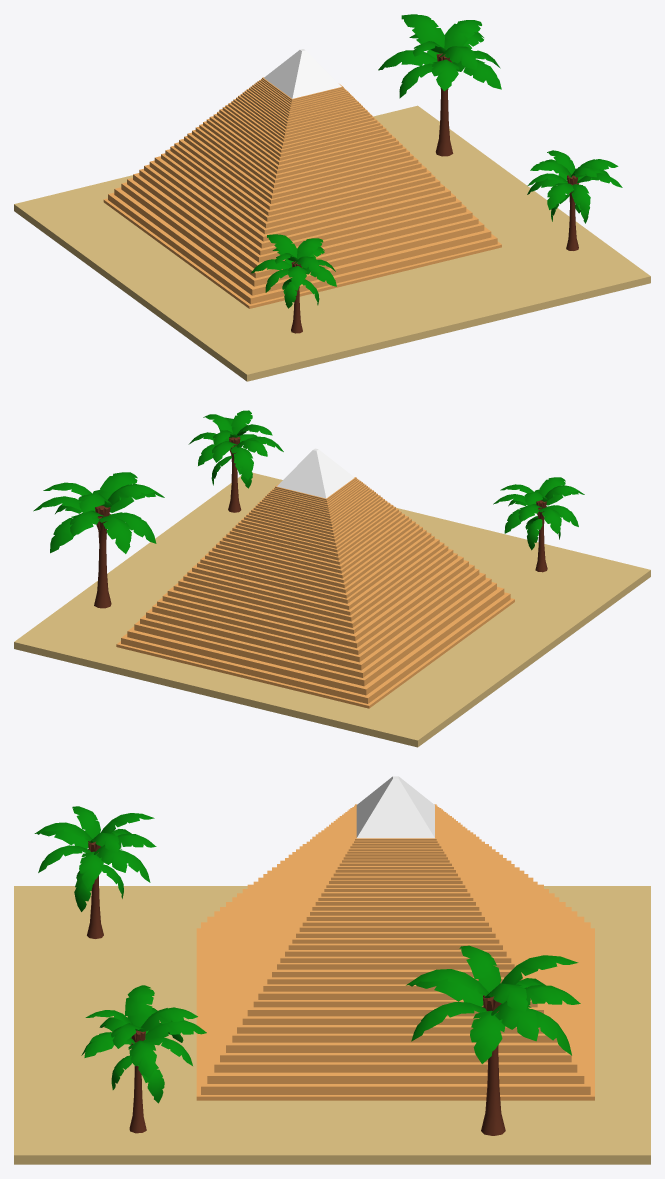
The picture shows the model from 3 angles, top to bottom: view 1: azimuth 30°, elevation 25°; view 2: azimuth 150°, elevation 25°; view 3: azimuth 270°, elevation 25°; orthographic projection. The views are drawn at different scales.
Parts seen in each view (by area): view 1: coconut_tree.012; view 2: coconut_tree.012; view 3: coconut_tree.012.
Boxes of the visible parts, x1,y1,x2,y2 form: coconut_tree.012: (14, 14, 650, 381); coconut_tree.012: (14, 410, 650, 747); coconut_tree.012: (14, 776, 650, 1164).
Size of the model in its own units: 11456 by 4662 by 10839.
